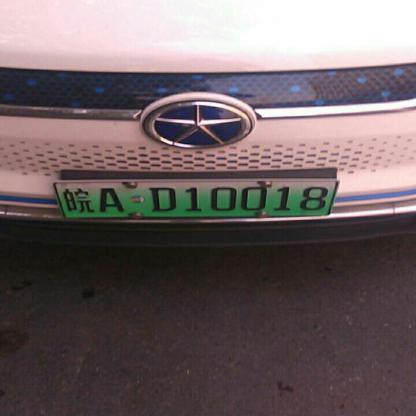lp: (52, 180, 66, 218)
